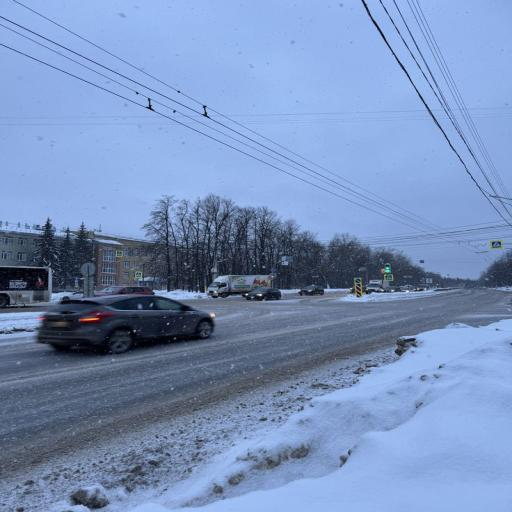bicycle: (0, 267, 52, 307)
bottle: (38, 295, 214, 353)
ramp: (0, 290, 511, 475)
table: (384, 264, 390, 273)
